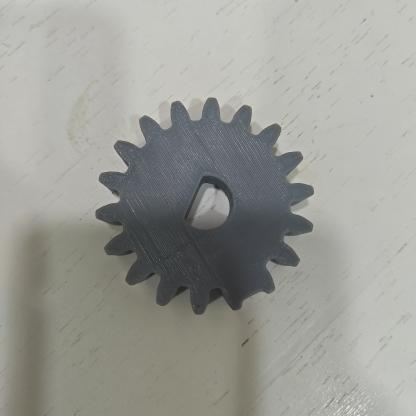defect: (163, 162, 213, 227), (221, 274, 293, 312)
gear: (96, 98, 314, 314)
